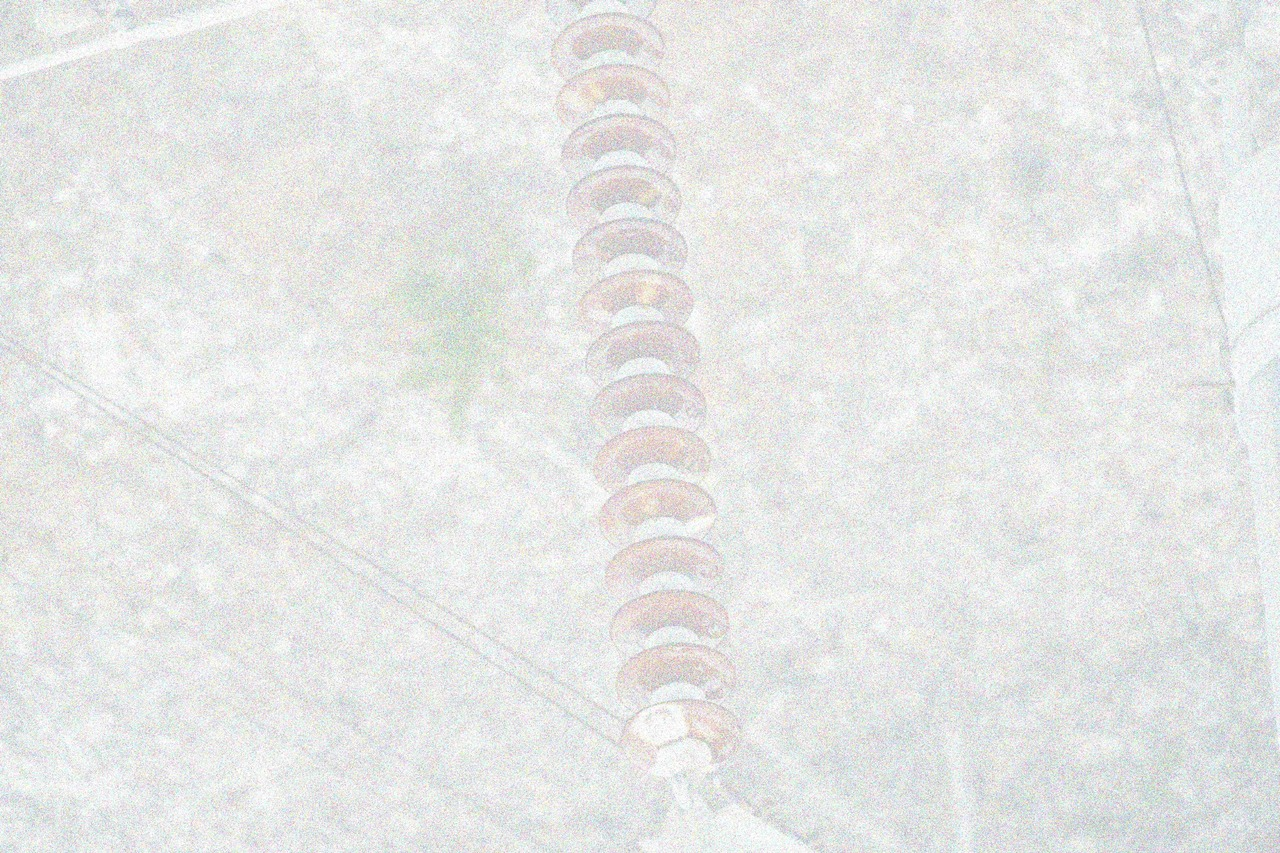Flashover damage: (617, 698, 746, 789), (570, 265, 702, 330), (560, 218, 691, 282), (562, 165, 686, 232), (595, 477, 722, 539), (590, 428, 716, 490), (552, 62, 674, 123)
No issues: (599, 533, 727, 600), (605, 584, 732, 650), (582, 373, 719, 434), (548, 112, 685, 173), (573, 321, 709, 381), (548, 14, 674, 74), (614, 644, 740, 703), (544, 0, 661, 27)
String: (535, 0, 753, 805)
